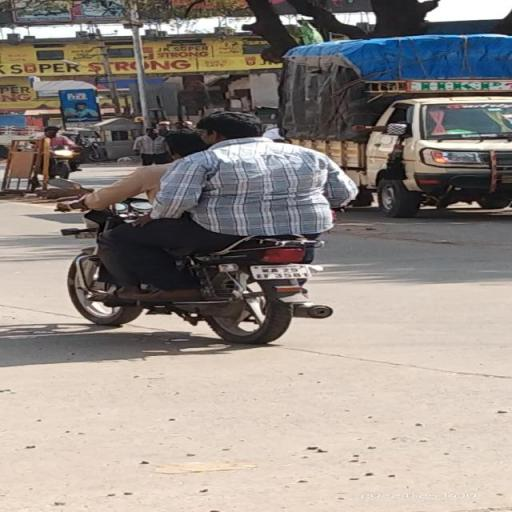bike: (52, 108, 366, 342)
numberplate: (248, 260, 312, 282)
withouthelmet: (204, 110, 262, 140), (166, 128, 202, 154)
